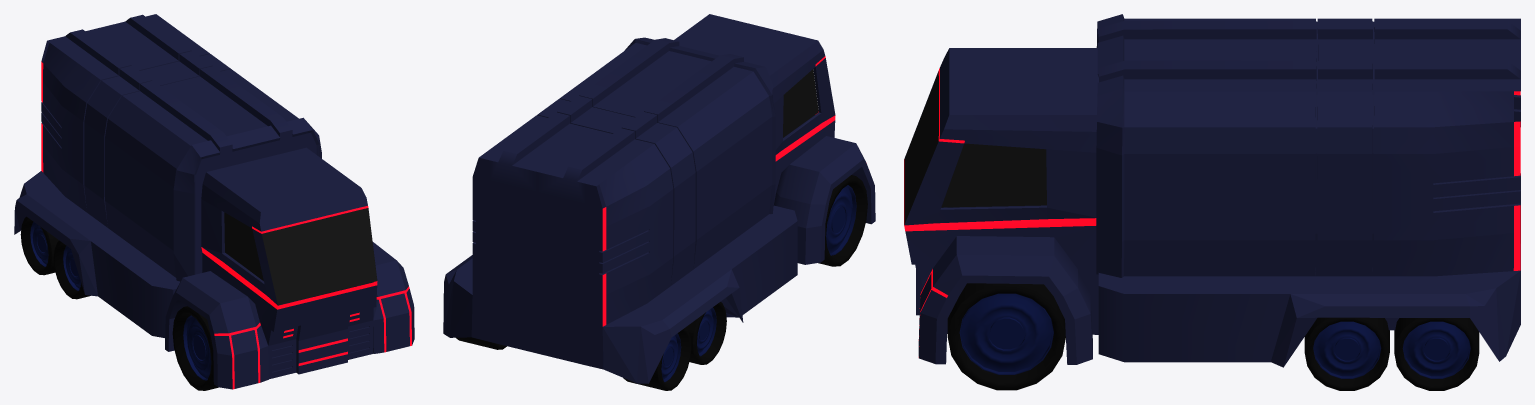
Rendered from obstacle_truck_P.fbx.
The picture shows the model from 3 angles, left to right: view 1: azimuth 30°, elevation 25°; view 2: azimuth 150°, elevation 25°; view 3: azimuth 270°, elevation 25°; orthographic projection. The views are drawn at different scales.
Visible parts, largest first — view 1: truck_base, truck_glass, truck_neon, truck_tire_RF, truck_tire_RB2, truck_tire_RB1; view 2: truck_base, truck_tire_RF, truck_tire_RB1, truck_tire_RB2, truck_glass, truck_neon; view 3: truck_base, truck_tire_LF, truck_glass, truck_tire_LB2, truck_tire_LB1, truck_neon.
Boxes of the visible parts, x1,y1,x2,y2 form: truck_base: (14, 14, 414, 389); truck_glass: (224, 208, 377, 305); truck_neon: (41, 61, 411, 389); truck_tire_RF: (172, 306, 218, 390); truck_tire_RB2: (20, 216, 58, 275); truck_tire_RB1: (53, 240, 90, 299); truck_base: (443, 14, 875, 383); truck_tire_RF: (818, 175, 867, 266); truck_tire_RB1: (685, 302, 726, 364); truck_tire_RB2: (623, 328, 691, 390); truck_glass: (783, 69, 818, 137); truck_neon: (602, 56, 835, 326); truck_base: (904, 14, 1520, 367); truck_tire_LF: (947, 283, 1065, 390); truck_glass: (904, 72, 1046, 224); truck_tire_LB2: (1394, 318, 1479, 390); truck_tire_LB1: (1304, 317, 1389, 390); truck_neon: (904, 68, 1520, 357).
Bounding box in the file's own units: 525 × 492 × 975.
